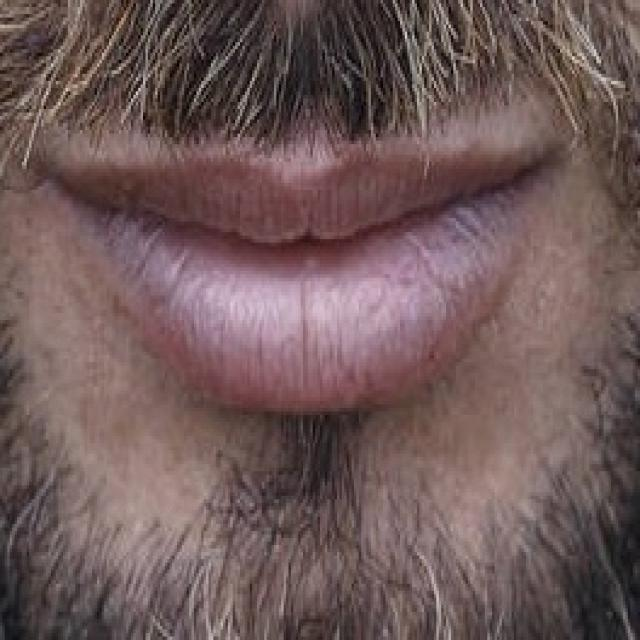closed-mouth: (27, 91, 574, 415)
